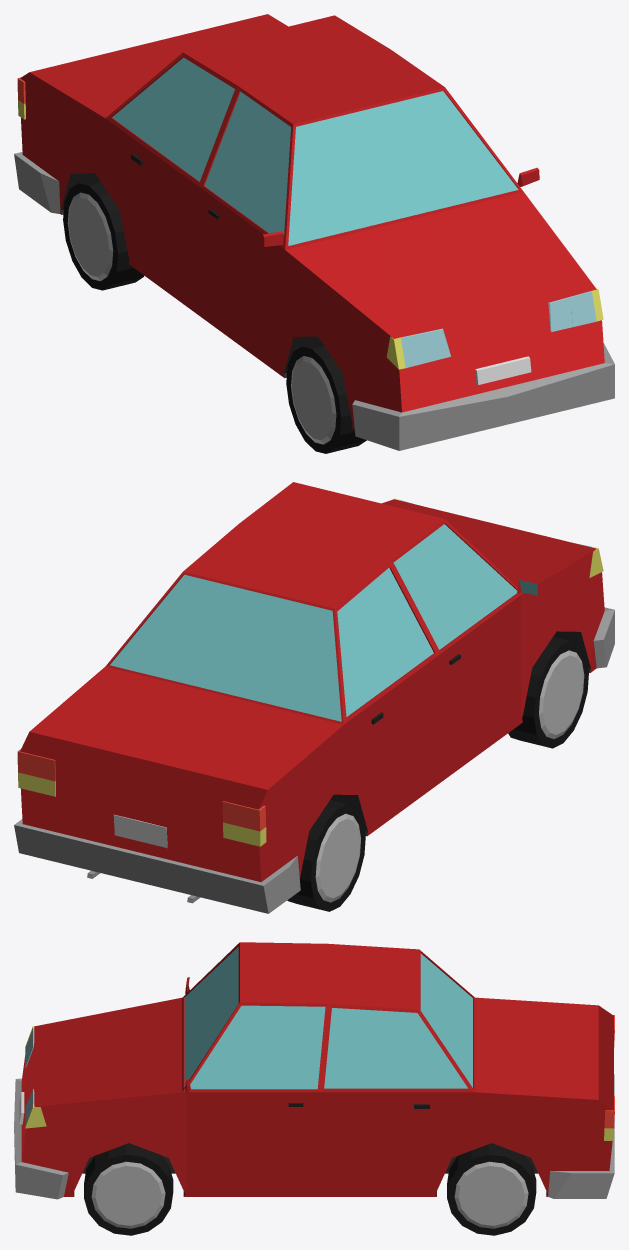
File: lp_car11.fbx
The picture shows the model from 3 angles, top to bottom: view 1: azimuth 30°, elevation 25°; view 2: azimuth 150°, elevation 25°; view 3: azimuth 270°, elevation 25°; orthographic projection. The views are drawn at different scales.
Parts seen in each view (by area): view 1: Car, wheel_BR, wheel_FR; view 2: Car, wheel_FR, wheel_BR; view 3: Car, wheel_FL, wheel_BL.
Part boxes in pixels (bbox=[...]): Car: bbox=[14, 14, 614, 450]; wheel_BR: bbox=[63, 178, 144, 290]; wheel_FR: bbox=[286, 341, 366, 453]; Car: bbox=[14, 482, 614, 913]; wheel_FR: bbox=[508, 637, 588, 748]; wheel_BR: bbox=[287, 800, 365, 911]; Car: bbox=[14, 942, 614, 1199]; wheel_FL: bbox=[84, 1143, 173, 1235]; wheel_BL: bbox=[447, 1143, 536, 1235].
Bounding box in the file's own units: 231 × 211 × 537.
